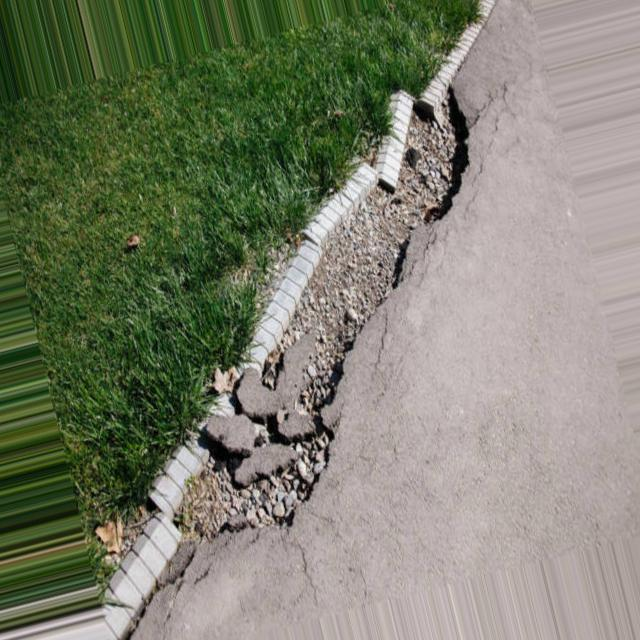Pinggir: (116, 58, 477, 540)
